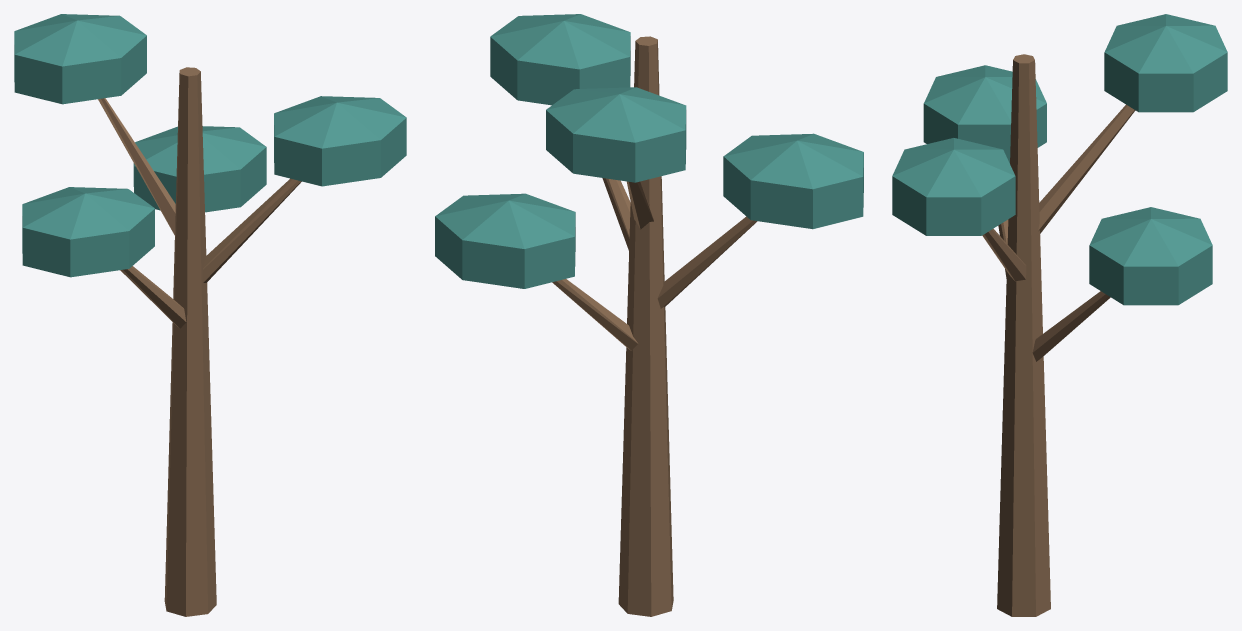
Rendered from Nature_Alien_Tree_02.glb.
3 views of the same model, side by side, from view 1: azimuth 30°, elevation 25°; view 2: azimuth 150°, elevation 25°; view 3: azimuth 270°, elevation 25° (orthographic). The views are drawn at different scales.
Visible parts, largest first — view 1: Nature_Alien_Tree_02; view 2: Nature_Alien_Tree_02; view 3: Nature_Alien_Tree_02.
Boxes of the visible parts, left/top/right/bottom form: Nature_Alien_Tree_02: left=14, top=14, right=406, bottom=616; Nature_Alien_Tree_02: left=435, top=14, right=863, bottom=616; Nature_Alien_Tree_02: left=892, top=14, right=1227, bottom=616.
Bounding box in the file's own units: 1.67 × 2.45 × 1.33.
